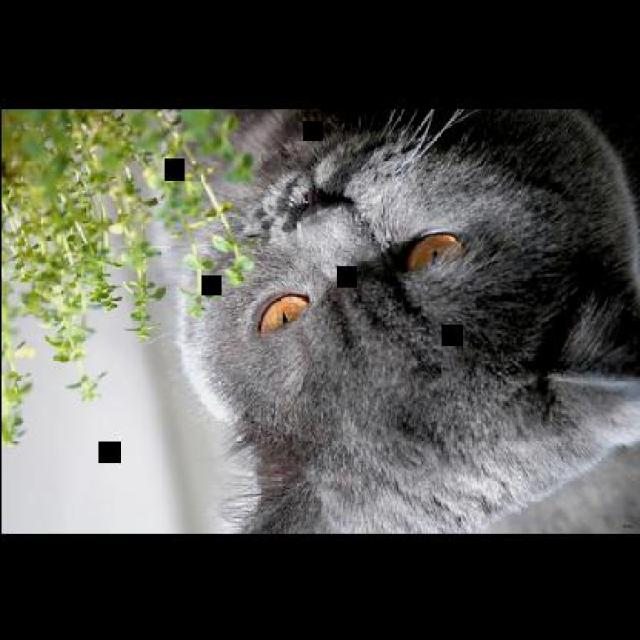unauthorized: (171, 104, 638, 534)
